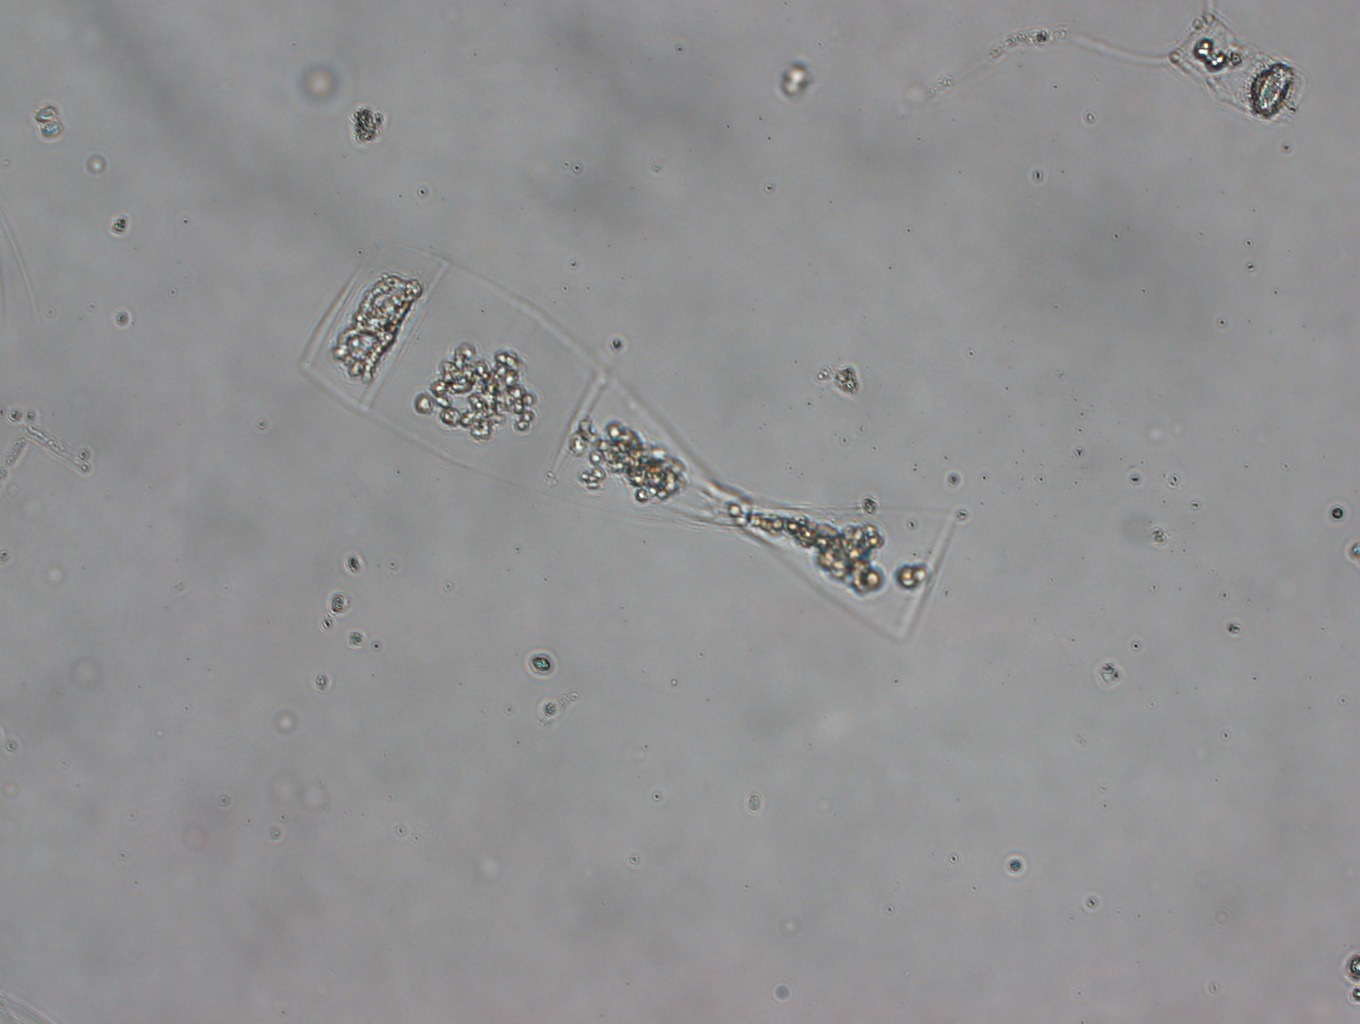helicotheca: (283, 218, 967, 658)
